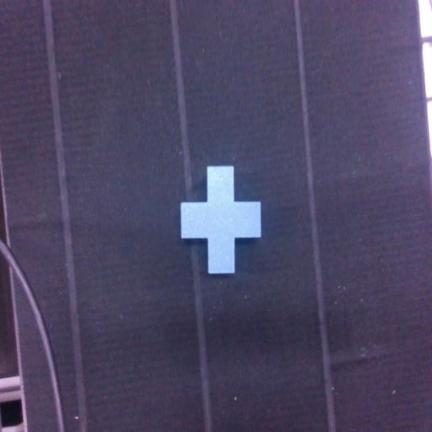cross: (181, 167, 260, 273)
